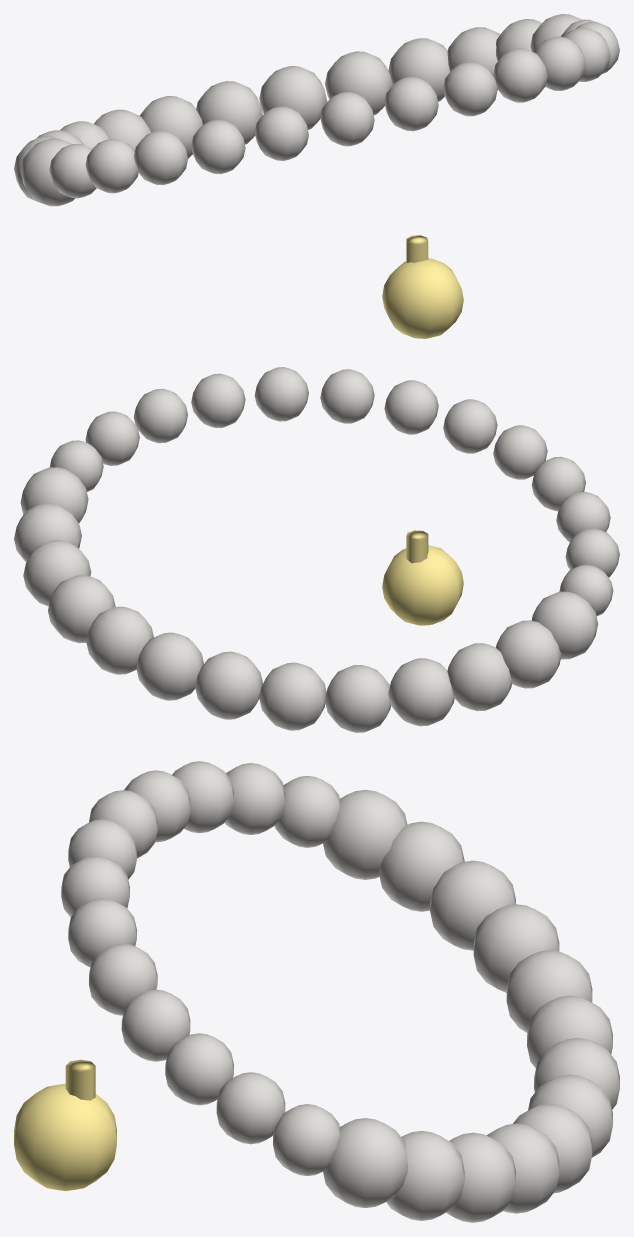
File: zen_necklace.glb
3 views of the same model, one above another, from view 1: azimuth 30°, elevation 25°; view 2: azimuth 150°, elevation 25°; view 3: azimuth 270°, elevation 25° (orthographic). The views are drawn at different scales.
Size of the model in its own units: 0.5762 by 0.24 by 0.4028.
